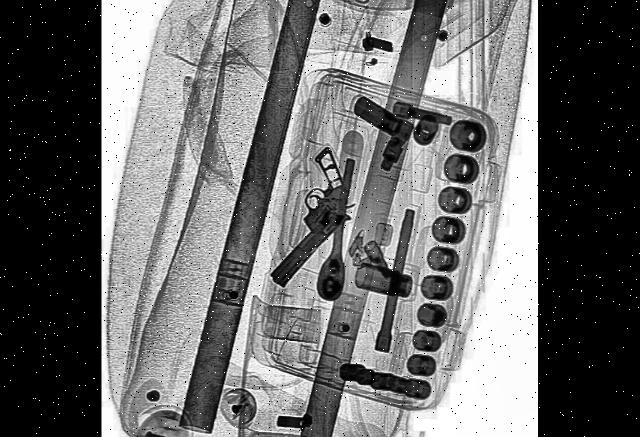Gun: (250, 144, 358, 300)
